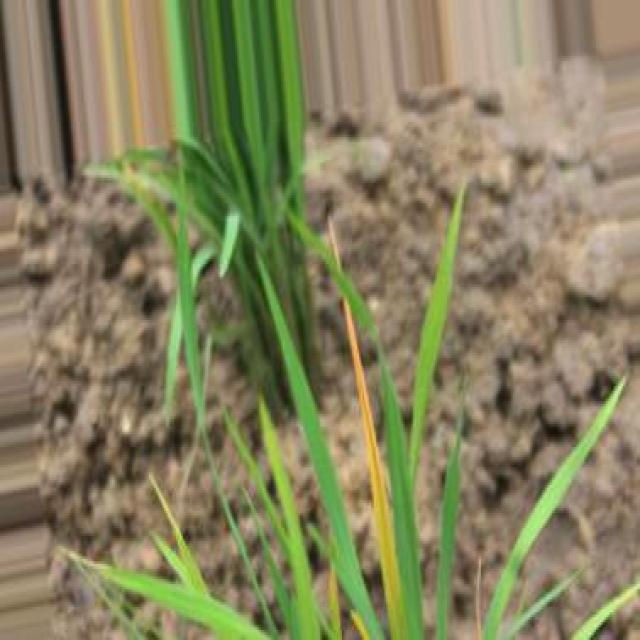Rice Tungro: (344, 298, 408, 638)
